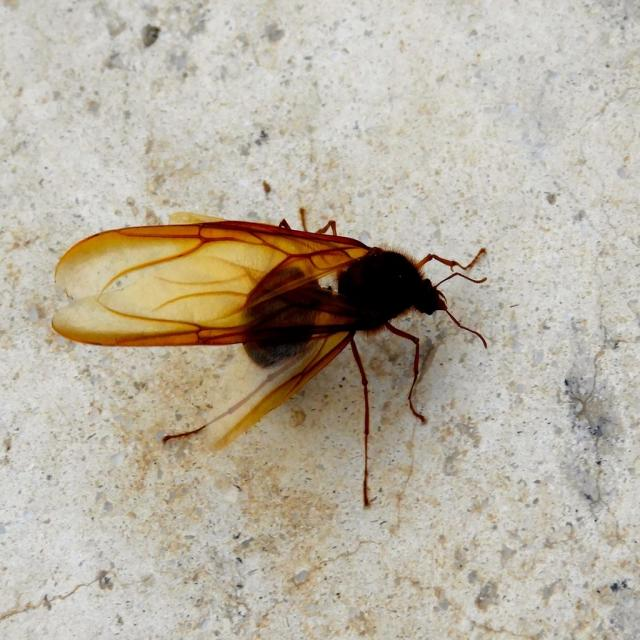Alive-Male-Alate: (51, 204, 489, 507)
